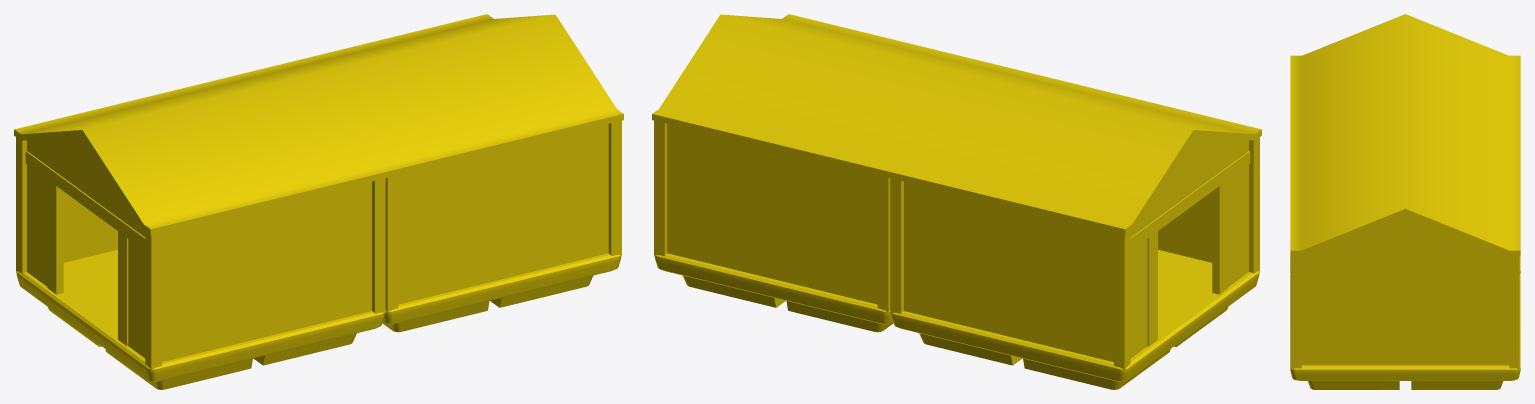
The model's file is Stro_Huis_Placeholder.fbx.
3 renders of one model, left to right at view 1: azimuth 30°, elevation 25°; view 2: azimuth 150°, elevation 25°; view 3: azimuth 270°, elevation 25°, orthographic. The views are drawn at different scales.
Parts seen in each view (by area): view 1: S_Dak_01, S_Dak_02, S_Muur_01, S_Muur_04, S_Foundation_01, S_MuurDakDeur, S_Foundation_02, S_Muur_02; view 2: S_Dak_01, S_Dak_02, S_Muur_02, S_Muur_03, S_Foundation_01, S_MuurDakDeur, S_Foundation_02, S_Muur_01; view 3: S_MuurDak_01, S_Dak_02, S_Dak_01, S_Foundation_02, S_Muur_04, S_Muur_03.
Boxes of the visible parts, bbox=[...] form: S_Dak_01: bbox=[14, 71, 387, 235]; S_Dak_02: bbox=[251, 14, 623, 177]; S_Muur_01: bbox=[145, 178, 385, 370]; S_Muur_04: bbox=[385, 120, 621, 312]; S_Foundation_01: bbox=[16, 249, 384, 389]; S_MuurDakDeur: bbox=[25, 136, 145, 358]; S_Foundation_02: bbox=[382, 253, 621, 332]; S_Muur_02: bbox=[16, 137, 117, 273]; S_Dak_01: bbox=[888, 71, 1261, 235]; S_Dak_02: bbox=[652, 14, 1024, 177]; S_Muur_02: bbox=[890, 178, 1130, 370]; S_Muur_03: bbox=[654, 120, 890, 312]; S_Foundation_01: bbox=[891, 249, 1259, 389]; S_MuurDakDeur: bbox=[1130, 136, 1250, 358]; S_Foundation_02: bbox=[654, 253, 893, 332]; S_Muur_01: bbox=[1158, 137, 1259, 273]; S_MuurDak_01: bbox=[1301, 214, 1509, 365]; S_Dak_02: bbox=[1290, 111, 1520, 255]; S_Dak_01: bbox=[1290, 14, 1520, 153]; S_Foundation_02: bbox=[1290, 273, 1520, 389]; S_Muur_04: bbox=[1291, 255, 1301, 369]; S_Muur_03: bbox=[1509, 255, 1519, 369].
Bounding box in the file's own units: 4 × 1.81 × 2.
